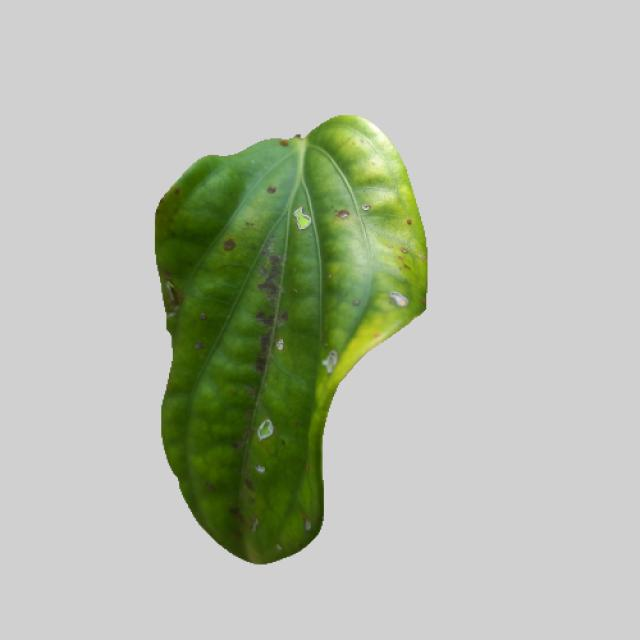yellow-mottle-virus: (142, 118, 428, 559)
